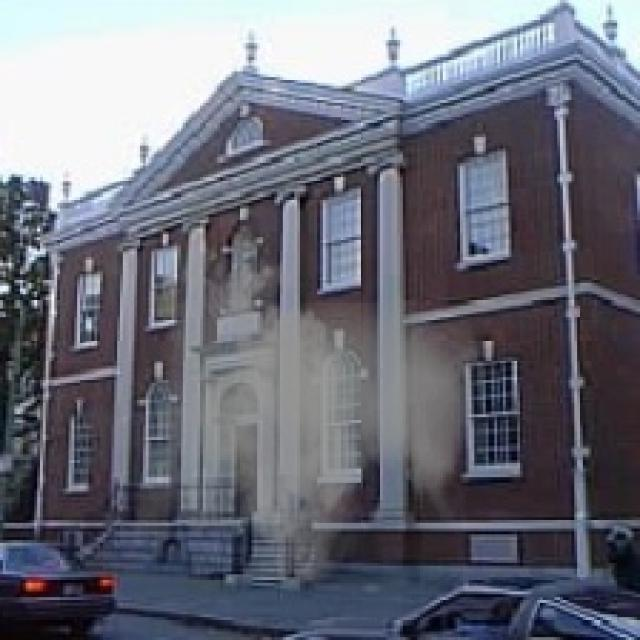Smoke: (134, 237, 480, 600)
